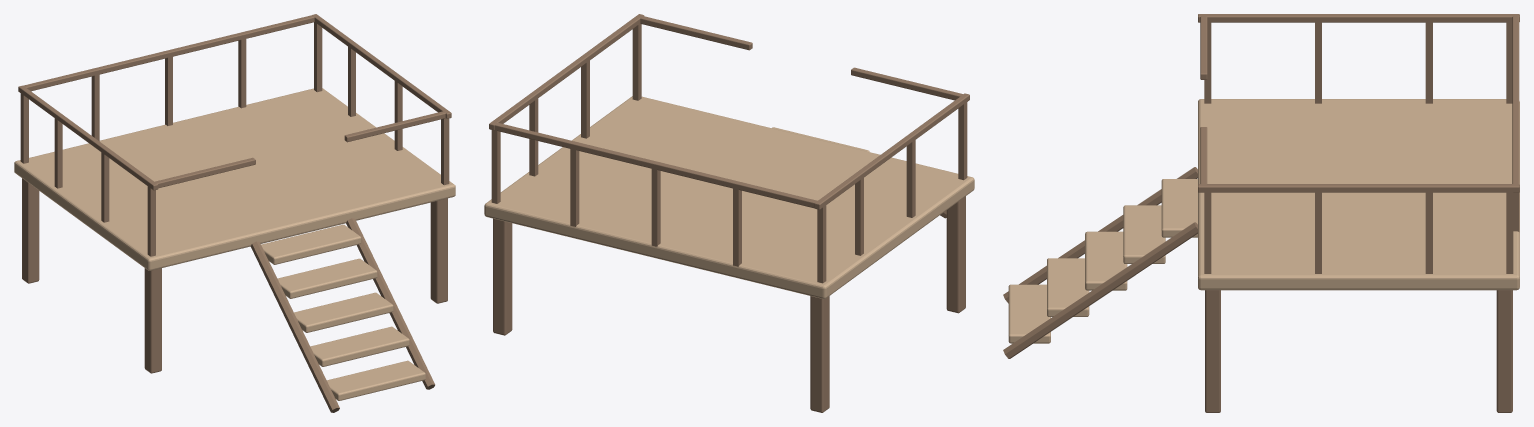
File: lookout.glb
The picture shows the model from 3 angles, left to right: view 1: azimuth 30°, elevation 25°; view 2: azimuth 150°, elevation 25°; view 3: azimuth 270°, elevation 25°; orthographic projection. The views are drawn at different scales.
Visible parts, largest first — view 1: lookout; view 2: lookout; view 3: lookout.
Boxes of the visible parts, <box> form: lookout: <box>14,14,455,412</box>; lookout: <box>484,14,974,412</box>; lookout: <box>1003,14,1519,412</box>.
Size of the model in its own units: 4.2 by 2.53 by 5.14.
